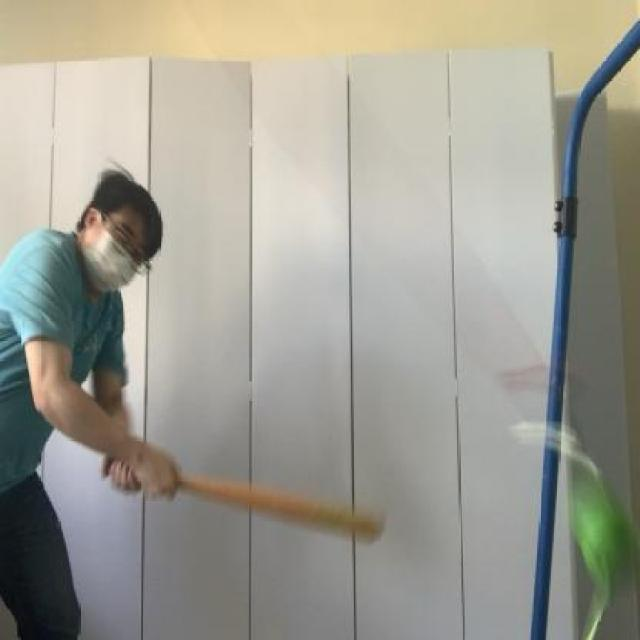baseball: (563, 471, 640, 614)
